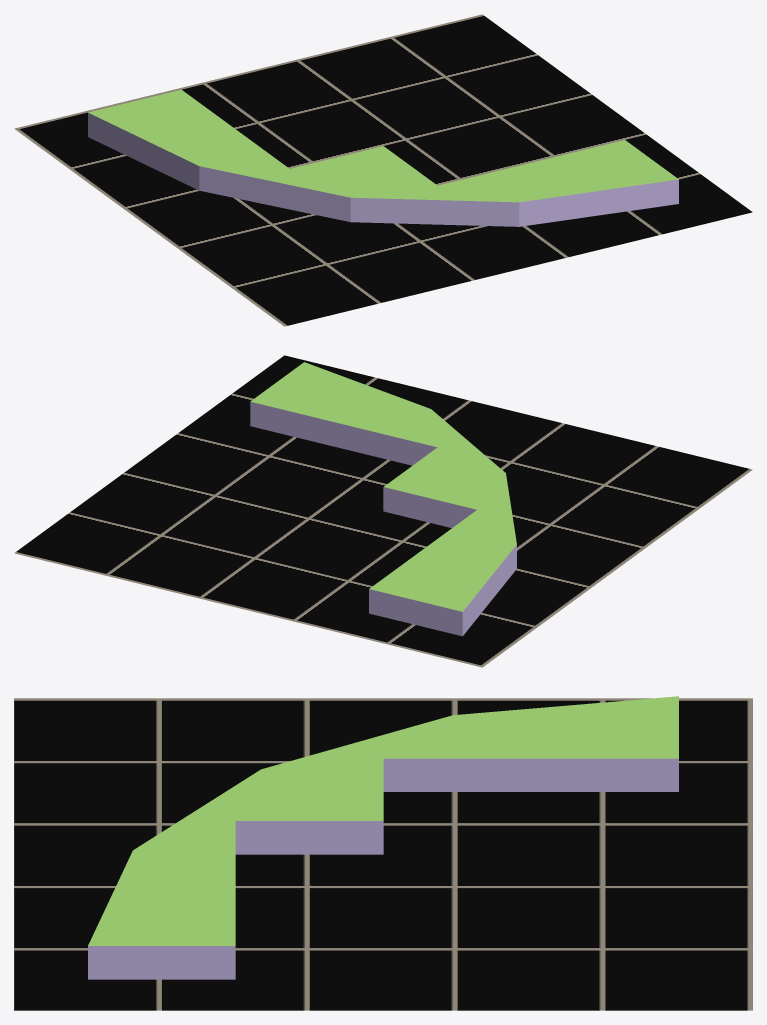
The model's file is Tiered_Grass_Curve_Outer_4x4.glb.
The picture shows the model from 3 angles, top to bottom: view 1: azimuth 30°, elevation 25°; view 2: azimuth 150°, elevation 25°; view 3: azimuth 270°, elevation 25°; orthographic projection. The views are drawn at different scales.
Parts seen in each view (by area): view 1: Floor, Tiered_Grass_Curve_Outer_4x4; view 2: Floor, Tiered_Grass_Curve_Outer_4x4; view 3: Floor, Tiered_Grass_Curve_Outer_4x4.
Boxes of the visible parts, x1=… form: Floor: x1=14, y1=14, x2=752, y2=326; Tiered_Grass_Curve_Outer_4x4: x1=88, y1=89, x2=678, y2=226; Floor: x1=14, y1=355, x2=752, y2=667; Tiered_Grass_Curve_Outer_4x4: x1=250, y1=362, x2=516, y2=636; Floor: x1=14, y1=698, x2=752, y2=1010; Tiered_Grass_Curve_Outer_4x4: x1=88, y1=696, x2=678, y2=979.
Bounding box in the file's own units: 500 × 25 × 500.
4 materials, 1 textured.
